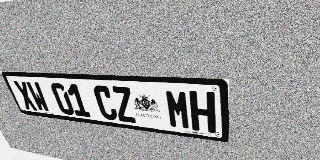0: (49, 83, 76, 115)
1: (64, 84, 91, 117)
C: (92, 85, 119, 121)
H: (189, 91, 216, 133)
M: (164, 89, 191, 130)
W: (25, 81, 51, 112)
X: (13, 81, 38, 111)
Z: (110, 86, 137, 123)
